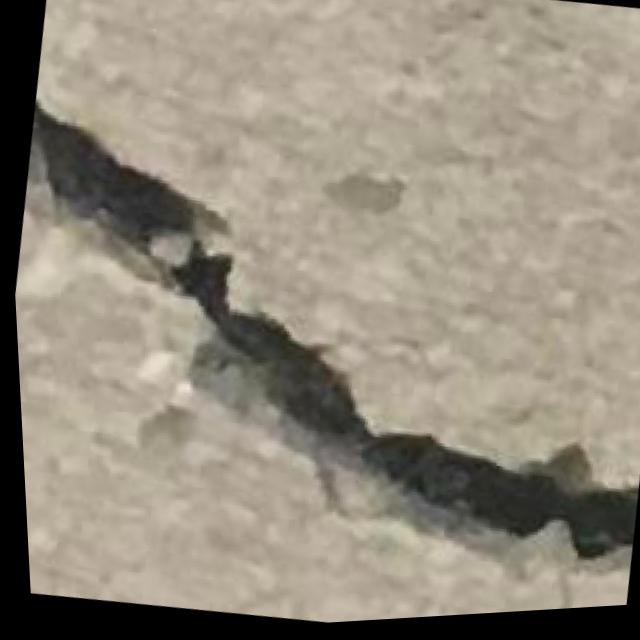Crack: (5, 88, 640, 640)
